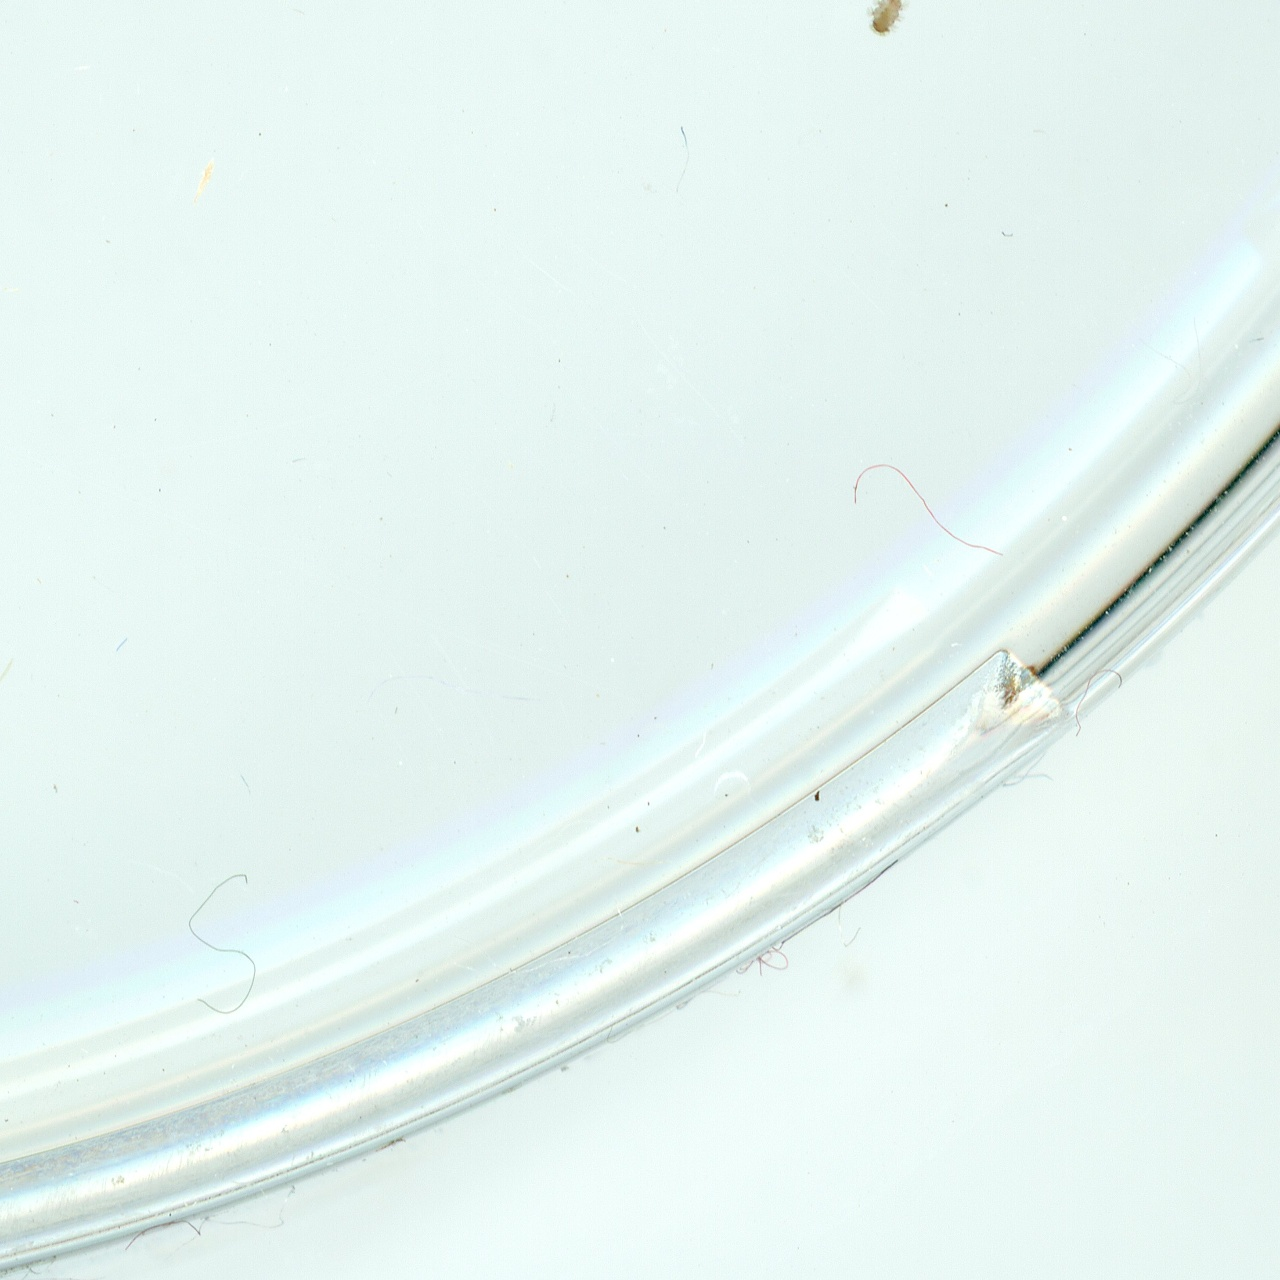arthropod: (870, 0, 913, 33)
